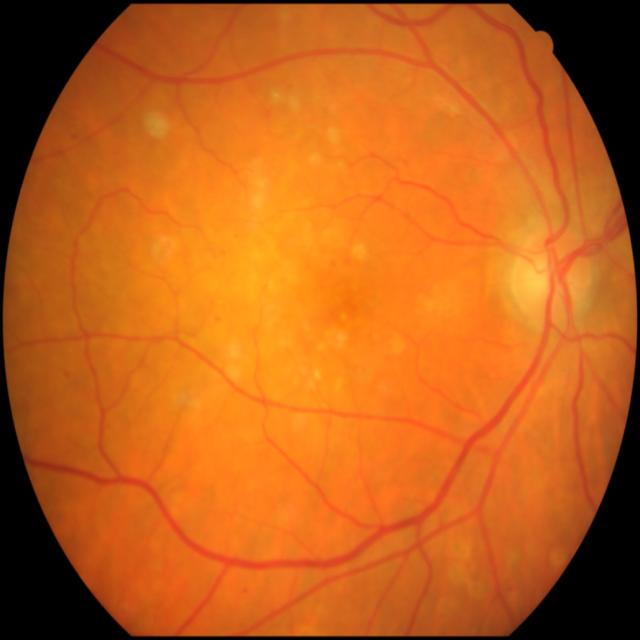OC: (526, 260, 552, 290)
OD: (513, 229, 596, 322)
